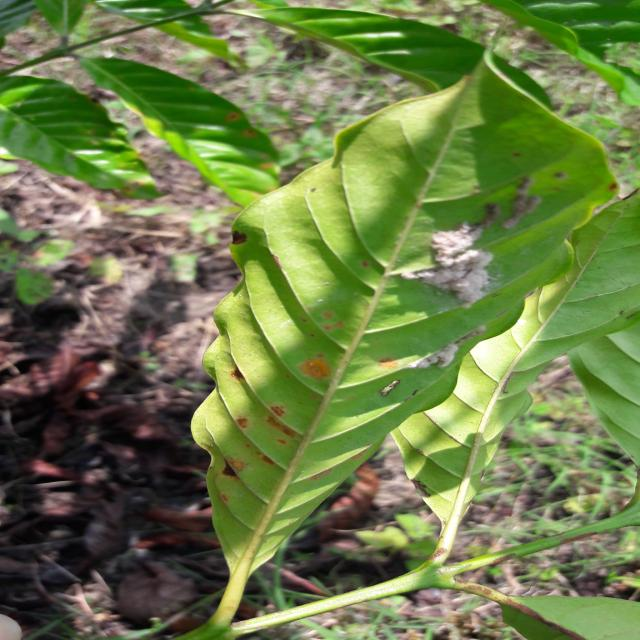Enfermedad-Roya: (191, 51, 621, 635)
